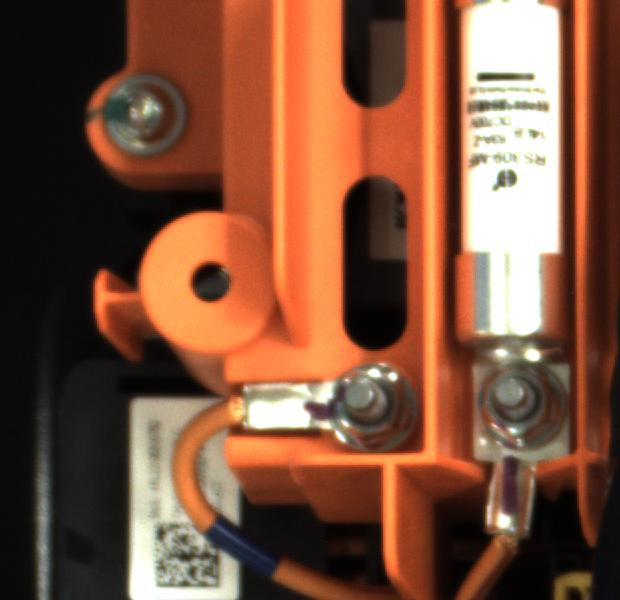screw_m: (85, 65, 203, 169)
screw_s: (320, 355, 420, 450), (478, 363, 569, 449)
